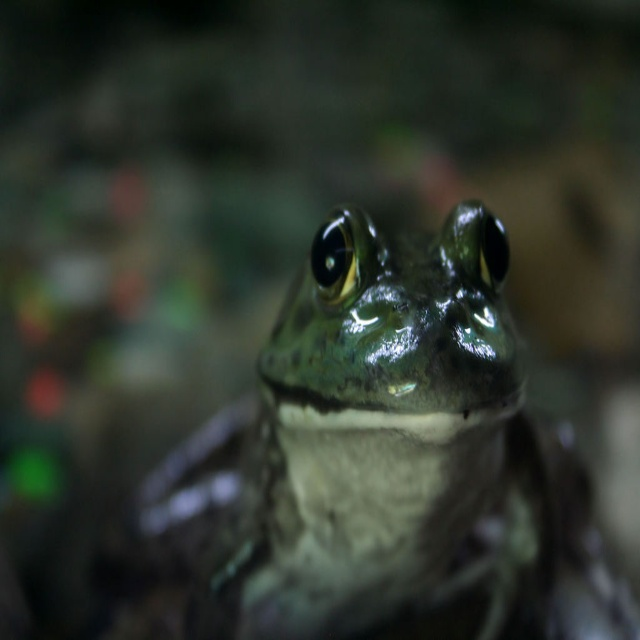Frog: (133, 198, 640, 639)
